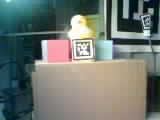duck: (61, 11, 107, 44)
